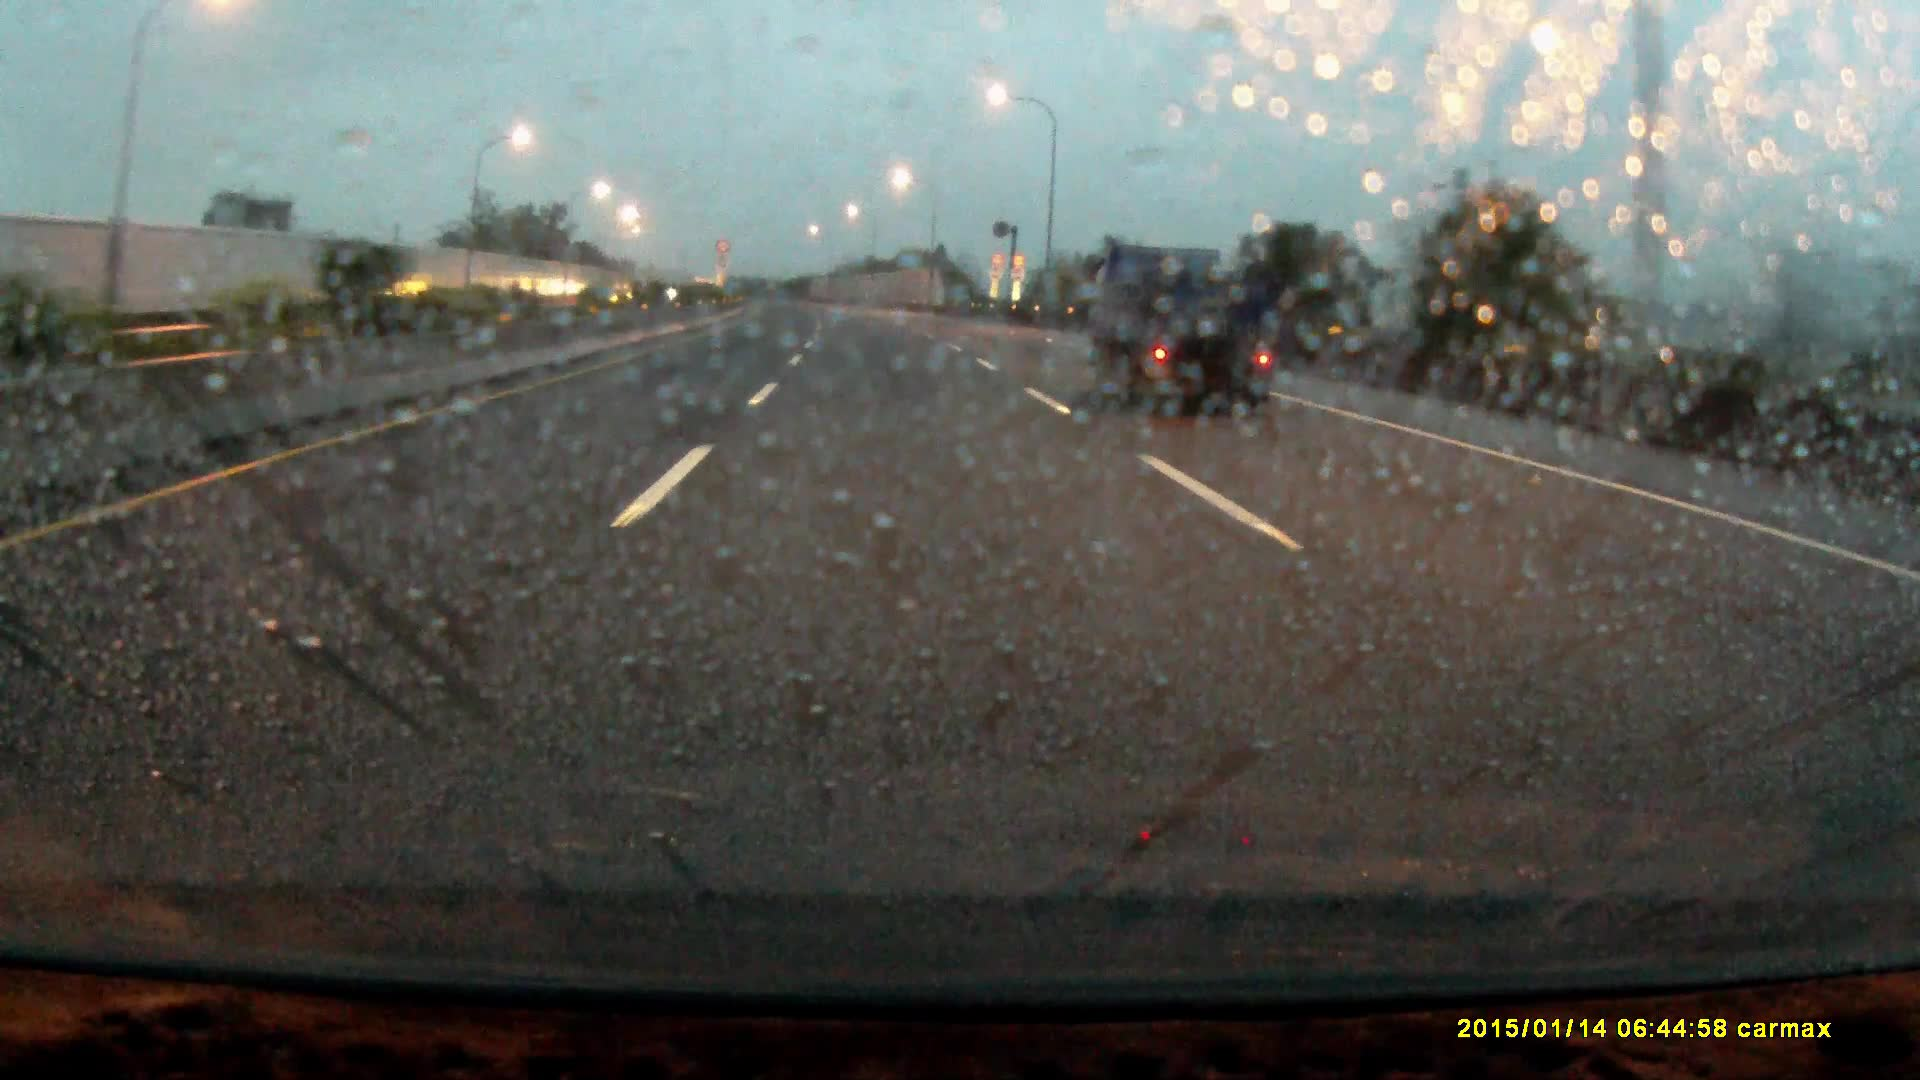vehicle: (1083, 244, 1275, 413)
